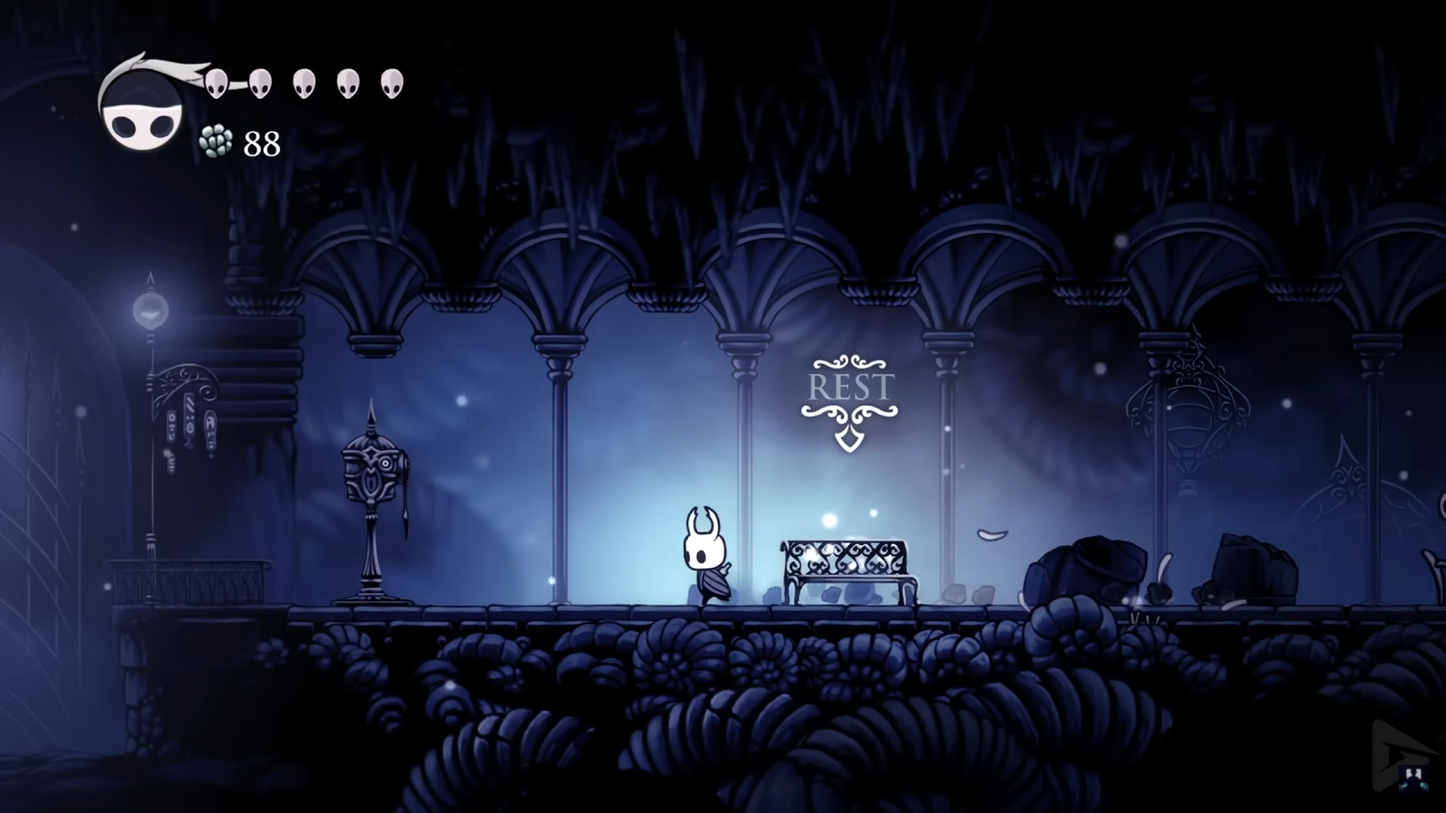HK: (678, 504, 736, 605)
